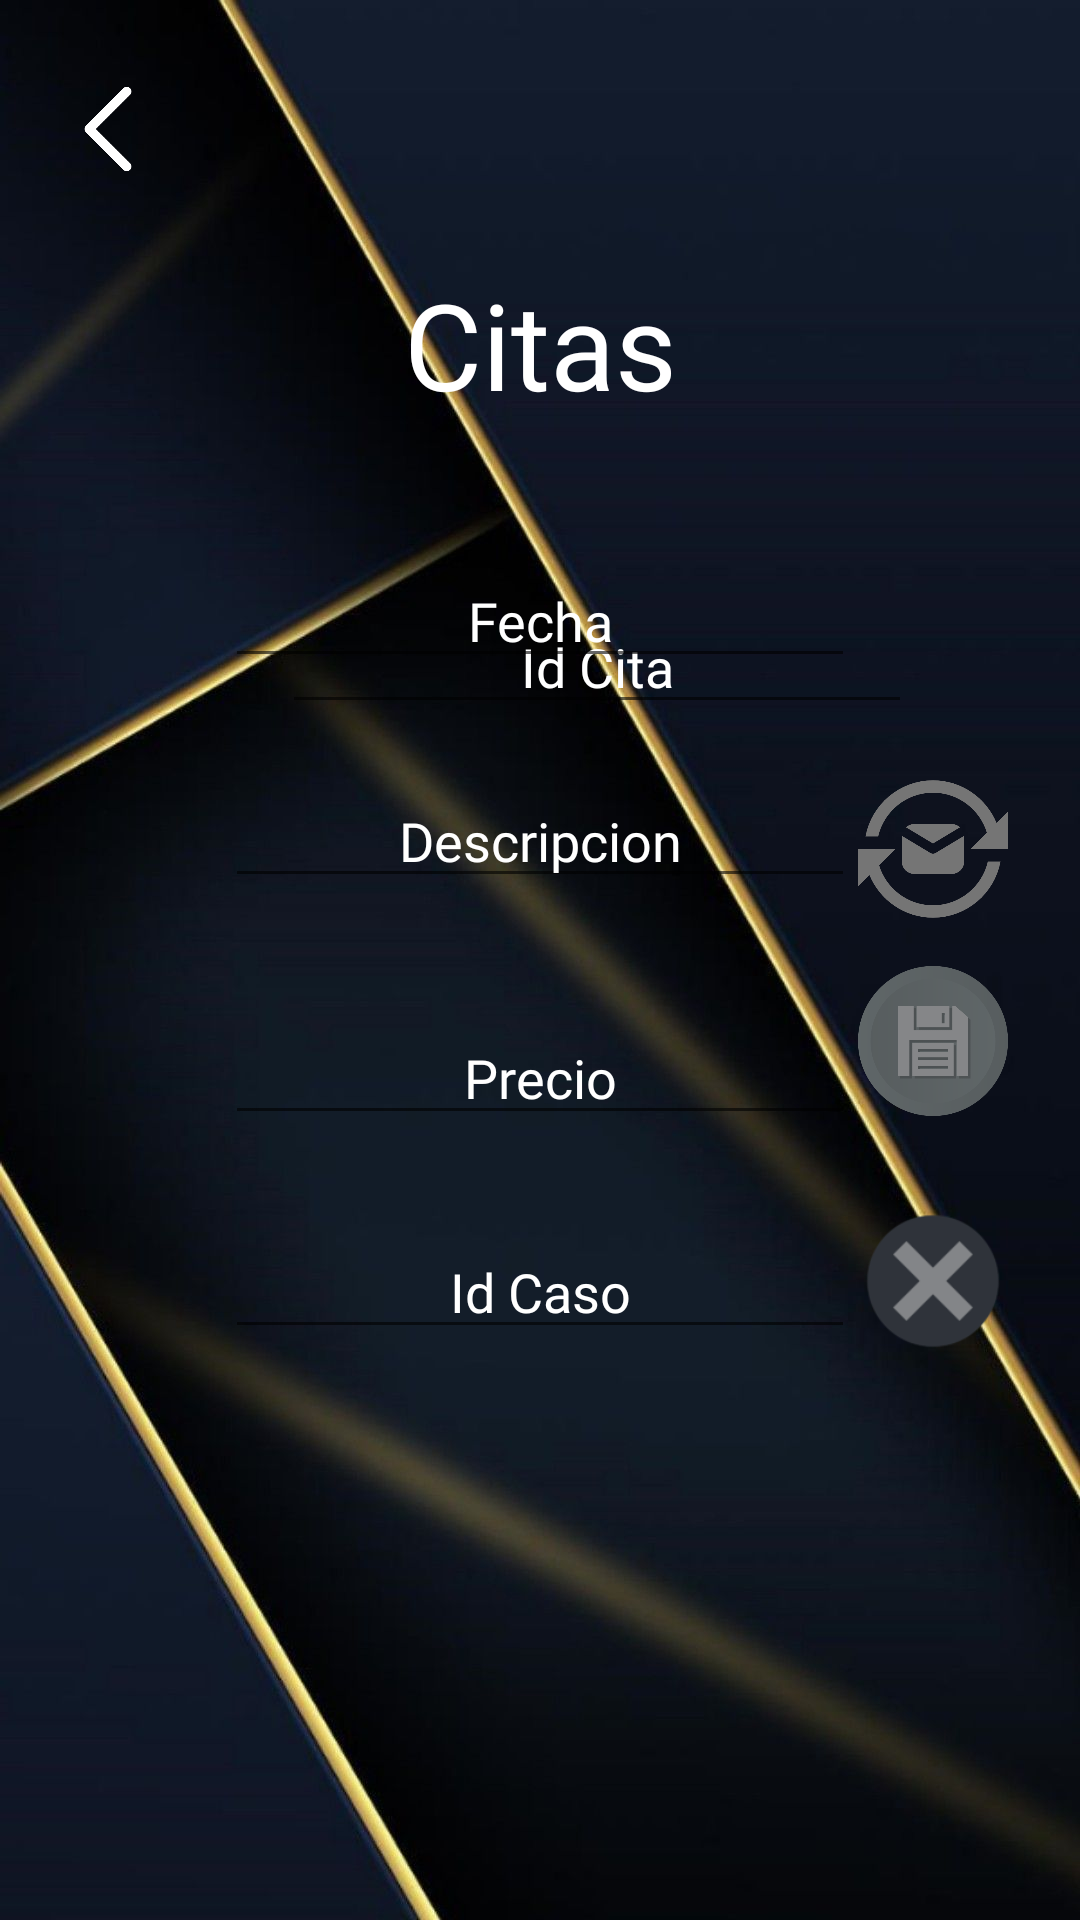

Where to tap for icons on this 1080w x 1920h app screen, as [x,y]:
actualizar: [933,849]
eliminar: [933,1281]
guardar: [933,1041]
